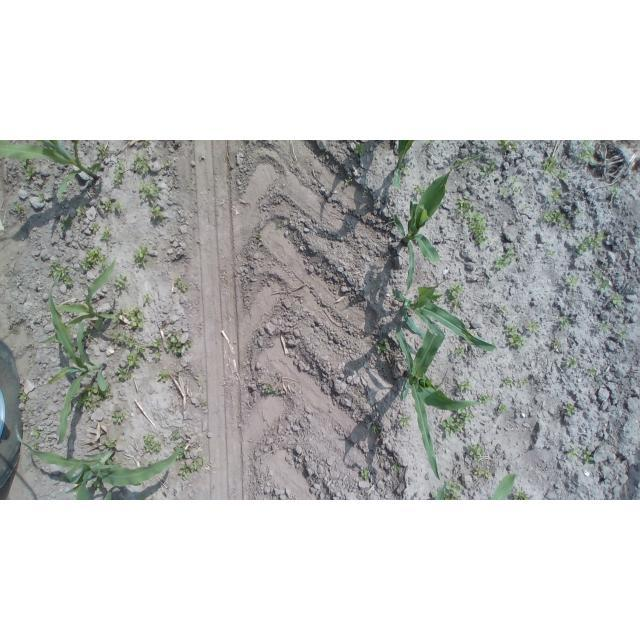Maize: (397, 321, 480, 481), (15, 424, 186, 500), (393, 152, 484, 294), (46, 273, 109, 445), (391, 281, 498, 354), (40, 258, 117, 346), (1, 140, 102, 204), (436, 472, 516, 500), (393, 140, 414, 190)
Weeds: (77, 385, 113, 412), (117, 353, 143, 382), (576, 232, 607, 256), (468, 211, 488, 247), (112, 307, 144, 329), (47, 258, 73, 284), (179, 454, 207, 477), (166, 330, 191, 355), (80, 247, 105, 271), (503, 324, 526, 348), (140, 180, 159, 205), (495, 247, 516, 269), (451, 196, 471, 219), (442, 416, 464, 436), (142, 433, 162, 455), (132, 244, 148, 269), (131, 152, 150, 173), (112, 332, 135, 349), (446, 282, 465, 302), (465, 443, 485, 461), (443, 480, 461, 500), (595, 270, 612, 291), (20, 159, 36, 181), (113, 272, 129, 292), (112, 161, 125, 185), (542, 211, 565, 224), (480, 160, 497, 177), (151, 207, 166, 226), (543, 157, 558, 176), (576, 149, 595, 164), (456, 407, 473, 421), (376, 338, 389, 356), (174, 277, 189, 292), (565, 274, 579, 290), (500, 140, 521, 150), (104, 436, 120, 449), (612, 292, 625, 308), (567, 445, 580, 460), (175, 445, 188, 460), (16, 389, 29, 404), (474, 468, 493, 478), (549, 189, 562, 203), (562, 404, 577, 416), (111, 412, 126, 424), (458, 379, 472, 391), (564, 356, 578, 368), (91, 475, 103, 489), (97, 145, 108, 160), (528, 320, 540, 333), (413, 185, 426, 197), (584, 449, 595, 463), (61, 217, 72, 231), (101, 228, 112, 241), (514, 490, 528, 500), (400, 414, 411, 426), (558, 168, 569, 180), (101, 199, 111, 212), (361, 468, 371, 481), (497, 187, 510, 197), (355, 144, 366, 155), (480, 395, 492, 405), (451, 299, 461, 311), (75, 204, 85, 216), (13, 203, 25, 213), (455, 346, 465, 357), (157, 372, 169, 381), (32, 428, 41, 440), (561, 221, 571, 231), (560, 317, 569, 328), (152, 340, 163, 349), (503, 379, 515, 387), (610, 184, 617, 197), (172, 430, 181, 440), (136, 345, 146, 354), (137, 495, 155, 500), (112, 200, 120, 211), (498, 404, 507, 413), (143, 294, 152, 303), (90, 223, 99, 232), (588, 368, 596, 378), (264, 383, 272, 393), (600, 320, 608, 330), (520, 379, 528, 388), (552, 340, 560, 349), (371, 426, 380, 434), (256, 233, 264, 242), (500, 305, 509, 313), (391, 464, 399, 473), (400, 164, 408, 173), (344, 178, 352, 186), (619, 331, 628, 338), (154, 353, 162, 360), (574, 209, 581, 217), (512, 177, 520, 184), (514, 188, 521, 195), (40, 194, 45, 202), (164, 161, 170, 167), (33, 443, 39, 449), (548, 251, 554, 257), (583, 140, 589, 146), (431, 492, 436, 499), (425, 140, 432, 145), (276, 388, 281, 394), (105, 264, 111, 269), (362, 189, 367, 195), (437, 296, 444, 300), (14, 329, 19, 334), (30, 409, 35, 414), (351, 300, 357, 304), (276, 224, 282, 228), (201, 402, 207, 406), (152, 243, 157, 247), (433, 292, 439, 295), (144, 140, 148, 144)
